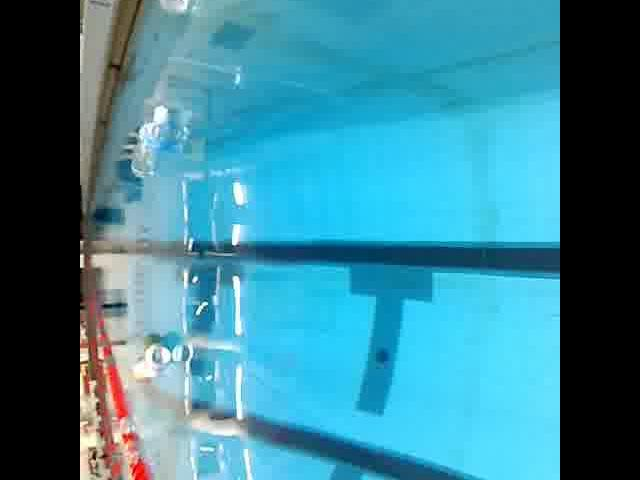Bottle: (127, 96, 177, 183), (153, 0, 201, 21)
Can: (132, 337, 182, 371)
